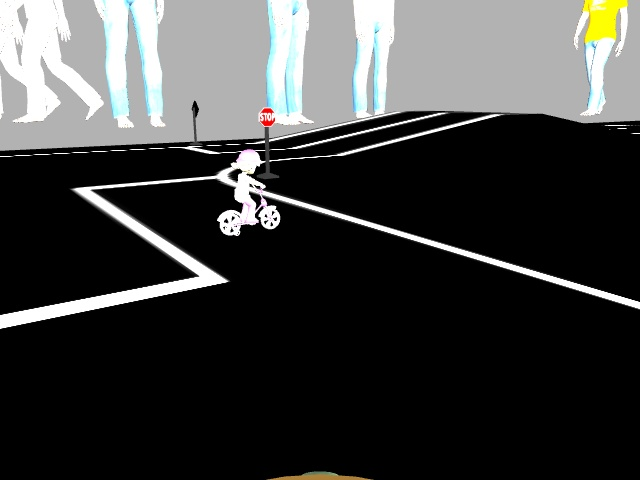Pedestrian: (217, 148, 284, 238)
Stop: (254, 105, 278, 125)
